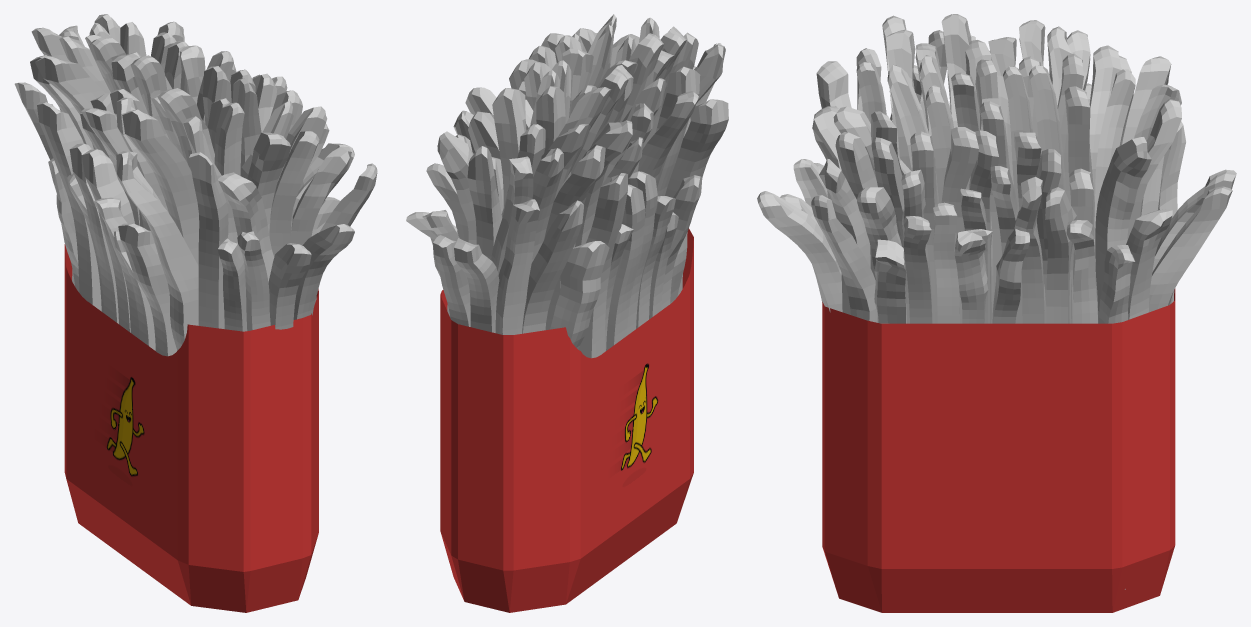
File: fries.fbx
3 views of the same model, side by side, from view 1: azimuth 30°, elevation 25°; view 2: azimuth 150°, elevation 25°; view 3: azimuth 270°, elevation 25° (orthographic). The views are drawn at different scales.
Parts seen in each view (by area): view 1: Plane, Plane.001, Cube, Cube.023, Cube.024, Cube.001, Cube.008, Cube.014, Cube.047, Cube.042, Cube.039, Cube.066 (+37 smaller); view 2: Plane, Plane.001, Cube.011, Cube.007, Cube.005, Cube, Cube.001, Cube.013, Cube.025, Cube.082, Cube.053, Cube.004 (+35 smaller); view 3: Plane, Cube.065, Cube.035, Cube.043, Cube.045, Cube.064, Cube.078, Cube.054, Cube.048, Cube.049, Cube.044, Cube.036 (+46 smaller).
Part boxes in pixels (<box>): Plane: <box>64,244,318,612</box>; Plane.001: <box>89,336,155,504</box>; Cube: <box>116,151,198,350</box>; Cube.023: <box>189,152,228,328</box>; Cube.024: <box>122,109,199,265</box>; Cube.001: <box>37,101,101,311</box>; Cube.008: <box>118,223,177,356</box>; Cube.014: <box>82,149,134,332</box>; Cube.047: <box>269,130,319,256</box>; Cube.042: <box>268,243,311,329</box>; Cube.039: <box>218,172,274,282</box>; Cube.066: <box>290,146,351,245</box>; Plane: <box>440,228,693,612</box>; Plane.001: <box>604,338,668,502</box>; Cube.011: <box>495,199,539,334</box>; Cube.007: <box>522,200,583,333</box>; Cube.005: <box>550,241,609,349</box>; Cube: <box>665,99,728,303</box>; Cube.001: <box>578,173,627,358</box>; Cube.013: <box>606,184,645,350</box>; Cube.025: <box>454,238,499,332</box>; Cube.082: <box>467,146,502,259</box>; Cube.053: <box>492,88,526,207</box>; Cube.004: <box>544,145,605,329</box>; Plane: <box>822,288,1175,612</box>; Cube.065: <box>1095,137,1151,589</box>; Cube.035: <box>1149,186,1232,312</box>; Cube.043: <box>757,191,842,312</box>; Cube.045: <box>811,195,877,322</box>; Cube.064: <box>1045,187,1076,323</box>; Cube.078: <box>1014,176,1044,323</box>; Cube.054: <box>1126,209,1172,319</box>; Cube.048: <box>933,202,959,323</box>; Cube.049: <box>954,229,992,323</box>; Cube.044: <box>903,216,932,323</box>; Cube.036: <box>1094,69,1135,273</box>.
Bounding box in the file's own units: 399 × 874 × 709.
